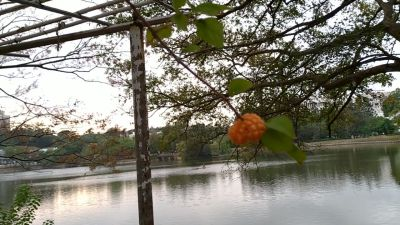eggs: (229, 113, 266, 147)
